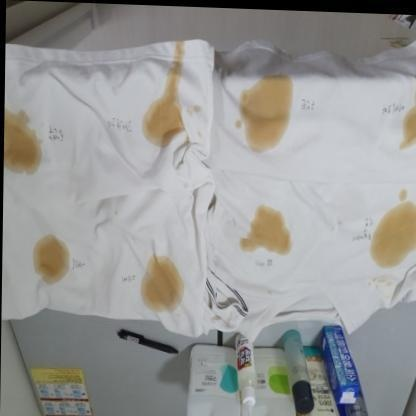coffee: (140, 261, 183, 310), (249, 83, 284, 143), (377, 209, 415, 261), (3, 123, 33, 169), (148, 101, 178, 140), (36, 241, 65, 279), (254, 214, 284, 250), (404, 113, 415, 145)
